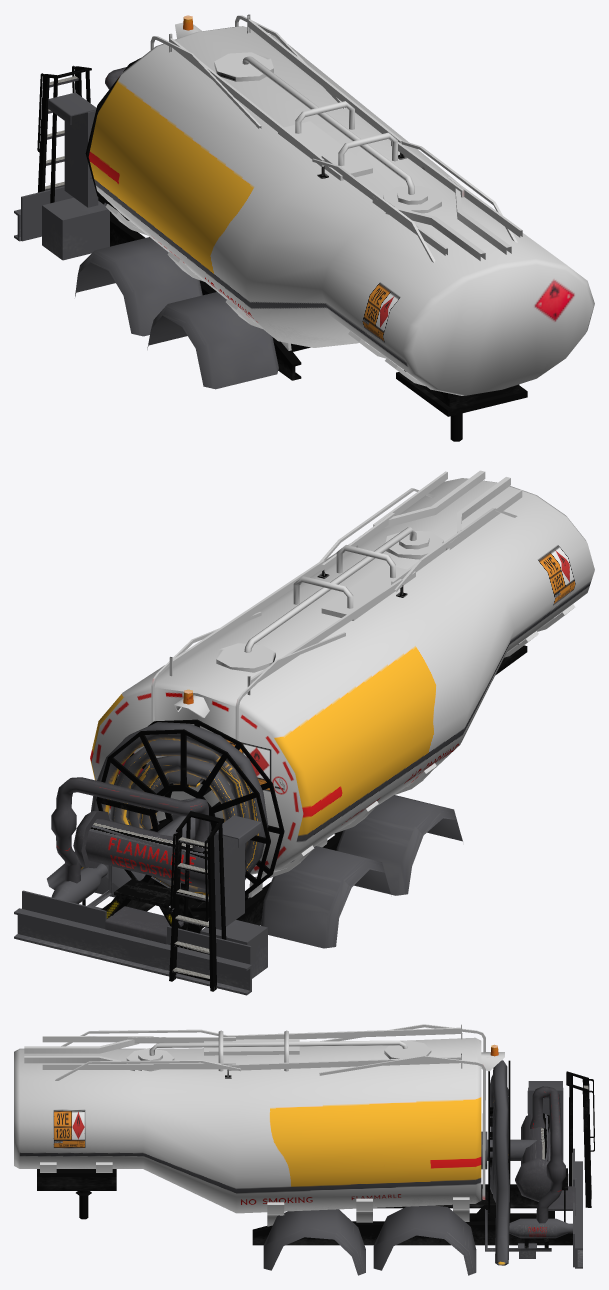
Rendered from Rear Fuel Truck.fbx.
3 views of the same model, one above another, from view 1: azimuth 30°, elevation 25°; view 2: azimuth 150°, elevation 25°; view 3: azimuth 270°, elevation 25° (orthographic). The views are drawn at different scales.
Parts seen in each view (by area): view 1: Rear Fuel Truck.001, Rear Fuel Truck; view 2: Rear Fuel Truck, Rear Fuel Truck.001; view 3: Rear Fuel Truck.001, Rear Fuel Truck.
Part boxes in pixels (bbox=[...]): Rear Fuel Truck.001: bbox=[88, 26, 594, 395]; Rear Fuel Truck: bbox=[14, 14, 527, 441]; Rear Fuel Truck: bbox=[14, 470, 575, 995]; Rear Fuel Truck.001: bbox=[90, 478, 594, 874]; Rear Fuel Truck.001: bbox=[14, 1037, 481, 1213]; Rear Fuel Truck: bbox=[24, 1024, 594, 1275].
Bounding box in the file's own units: 2.76 × 2.5 × 6.83.
